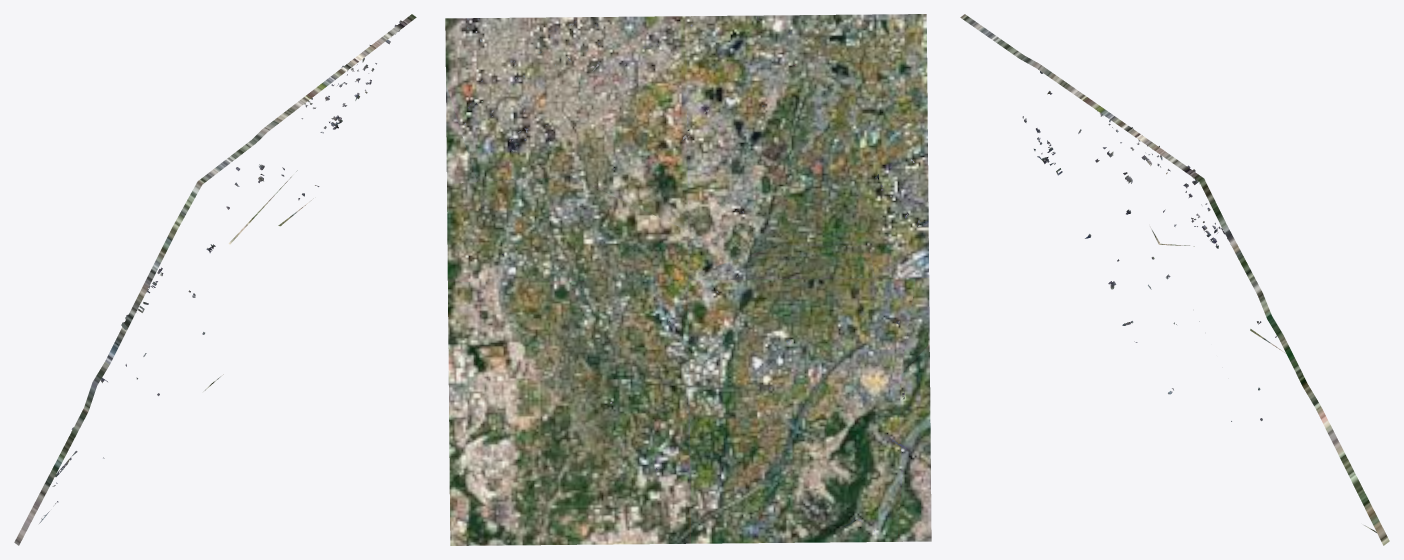
3 views of the same model, side by side, from view 1: azimuth 30°, elevation 25°; view 2: azimuth 150°, elevation 25°; view 3: azimuth 270°, elevation 25° (orthographic). The views are drawn at different scales.
Size of the model in its own units: 9807 by 8938 by 8354.
1 material, 1 textured.
